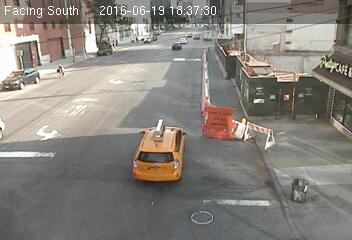neg: (288, 178, 311, 209), (170, 36, 183, 54), (201, 25, 213, 41), (101, 39, 113, 54), (284, 95, 291, 105)
pos: (52, 61, 66, 78)
